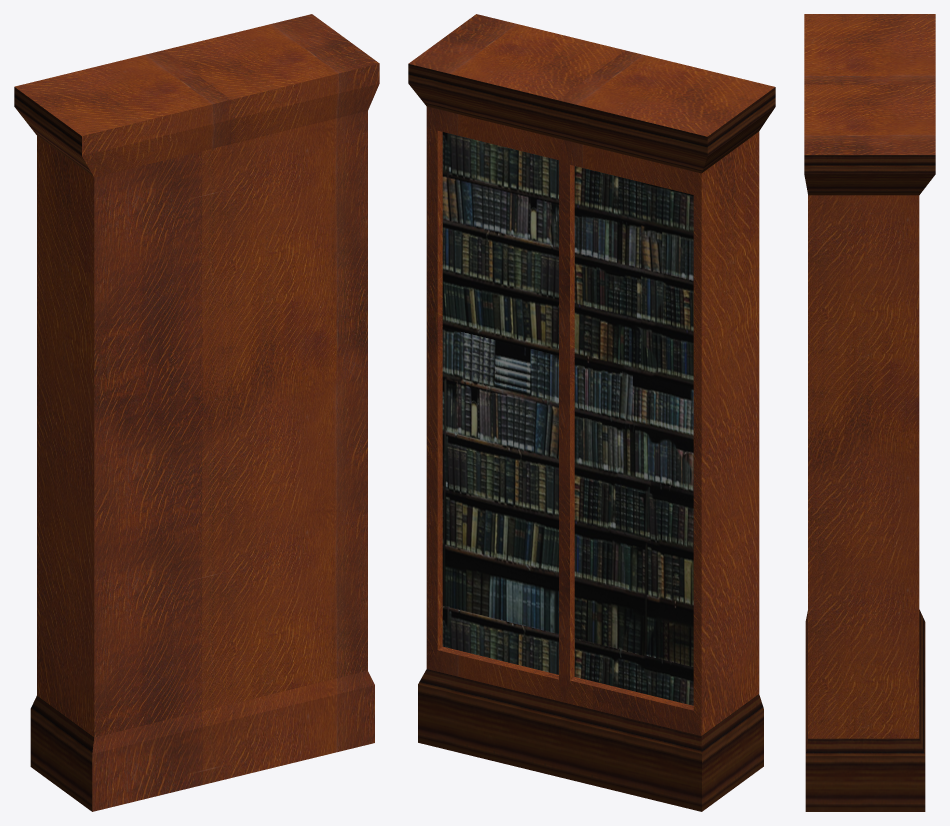
The model's file is Bookcase_short_Tall1.fbx.
3 views of the same model, side by side, from view 1: azimuth 30°, elevation 25°; view 2: azimuth 150°, elevation 25°; view 3: azimuth 270°, elevation 25° (orthographic). The views are drawn at different scales.
Visible parts, largest first — view 1: Bookcase_Short.001; view 2: Bookcase_Short.001; view 3: Bookcase_Short.001.
Boxes of the visible parts, x1,y1,x2,y2 form: Bookcase_Short.001: (14, 14, 379, 811); Bookcase_Short.001: (408, 14, 775, 811); Bookcase_Short.001: (804, 14, 935, 811).
Size of the model in its own units: 213 by 463 by 83.72.
